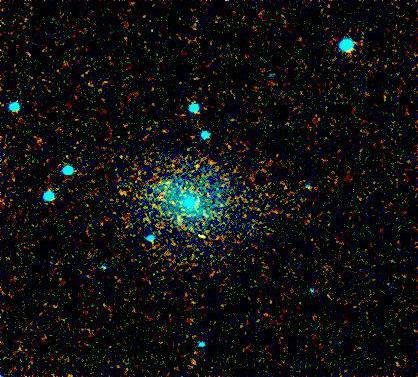star: (186, 223, 216, 253)
